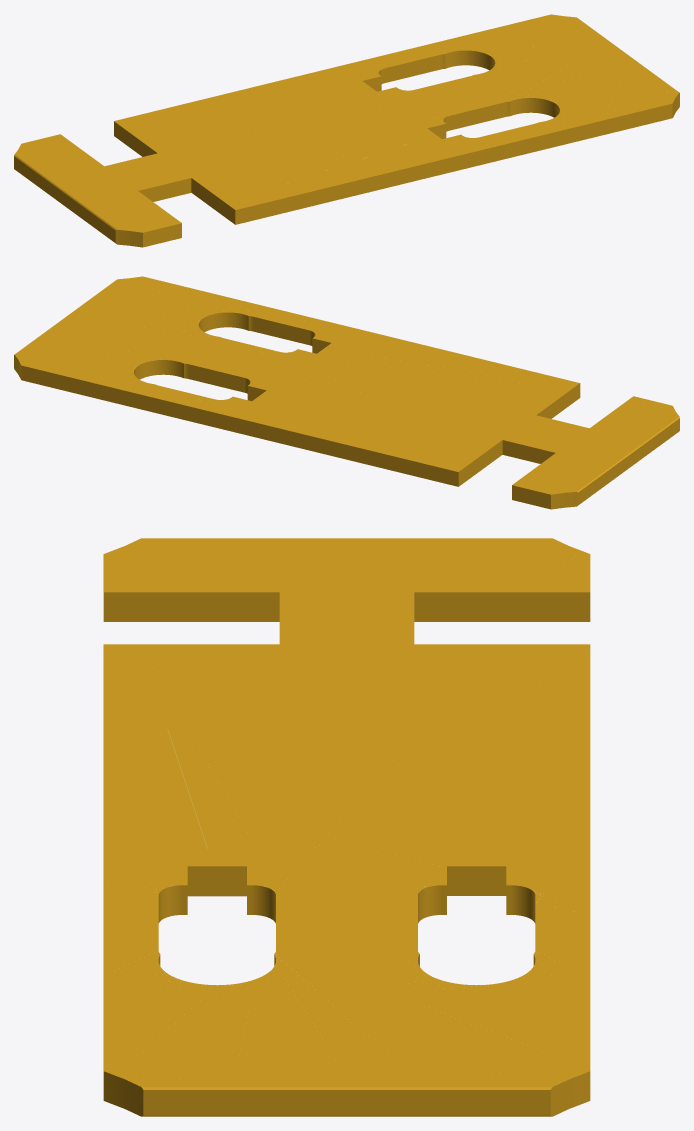
File: asinma-krupp-hm-720-721-722-02.glb
3 views of the same model, one above another, from view 1: azimuth 30°, elevation 25°; view 2: azimuth 150°, elevation 25°; view 3: azimuth 270°, elevation 25° (orthographic). The views are drawn at different scales.
Parts seen in each view (by area): view 1: body; view 2: body; view 3: body.
Boxes of the visible parts, x1=… form: body: x1=14, y1=14, x2=679, y2=247; body: x1=14, y1=276, x2=679, y2=509; body: x1=103, y1=538, x2=590, y2=1116.
Size of the model in its own units: 0.616 by 0.0155 by 0.23.
